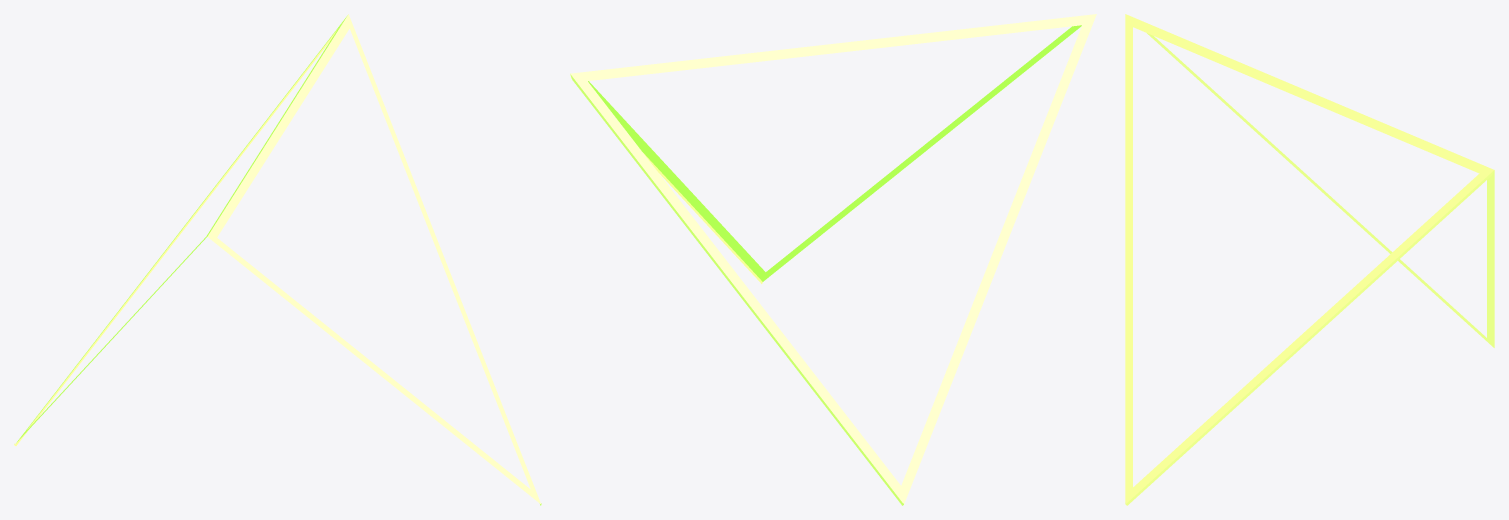
The model's file is r1c2_highlight_green.glb.
The picture shows the model from 3 angles, left to right: view 1: azimuth 30°, elevation 25°; view 2: azimuth 150°, elevation 25°; view 3: azimuth 270°, elevation 25°; orthographic projection. The views are drawn at different scales.
Visible parts, largest first — view 1: r1c2_hightlight_green; view 2: r1c2_hightlight_green; view 3: r1c2_hightlight_green.
Part boxes in pixels (x1,y1,x2,y2): r1c2_hightlight_green: (14,14,541,505); r1c2_hightlight_green: (570,14,1096,505); r1c2_hightlight_green: (1125,14,1494,505).
Size of the model in its own units: 2 by 2.01 by 2.
